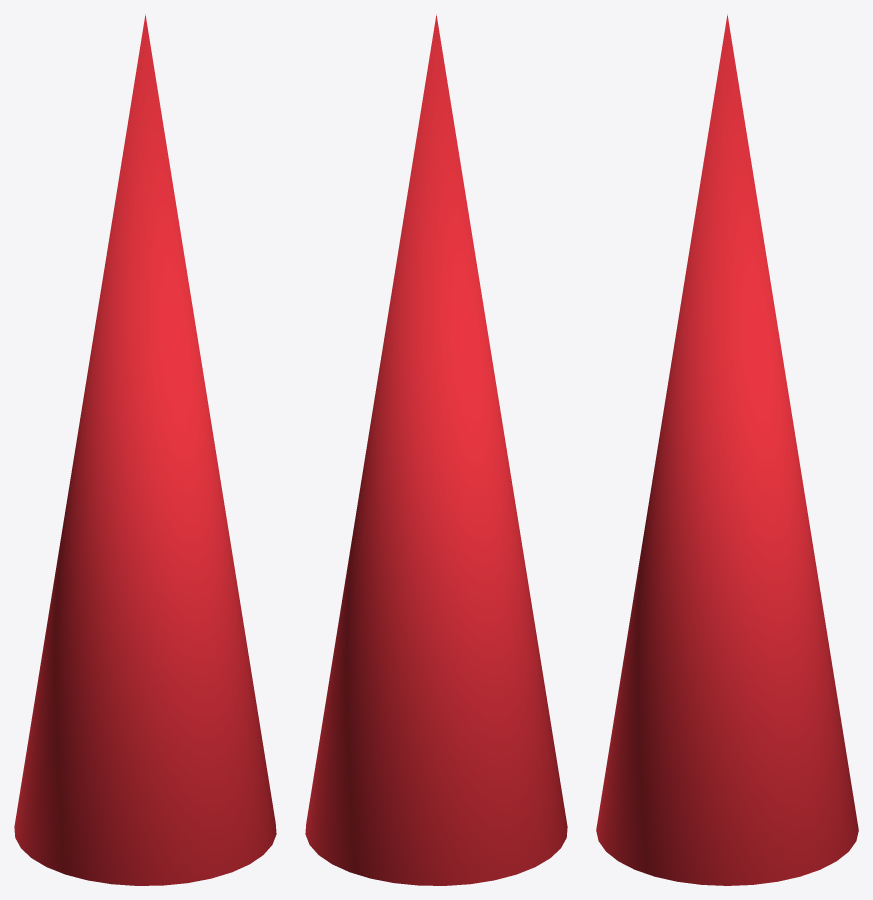
File: Spike.fbx
The picture shows the model from 3 angles, left to right: view 1: azimuth 30°, elevation 25°; view 2: azimuth 150°, elevation 25°; view 3: azimuth 270°, elevation 25°; orthographic projection.
Visible parts, largest first — view 1: Cone; view 2: Cone; view 3: Cone.
Boxes of the visible parts, x1=… form: Cone: x1=14, y1=14, x2=276, y2=885; Cone: x1=305, y1=14, x2=567, y2=885; Cone: x1=596, y1=14, x2=858, y2=885.
Bounding box in the file's own units: 2 × 6.86 × 2.
